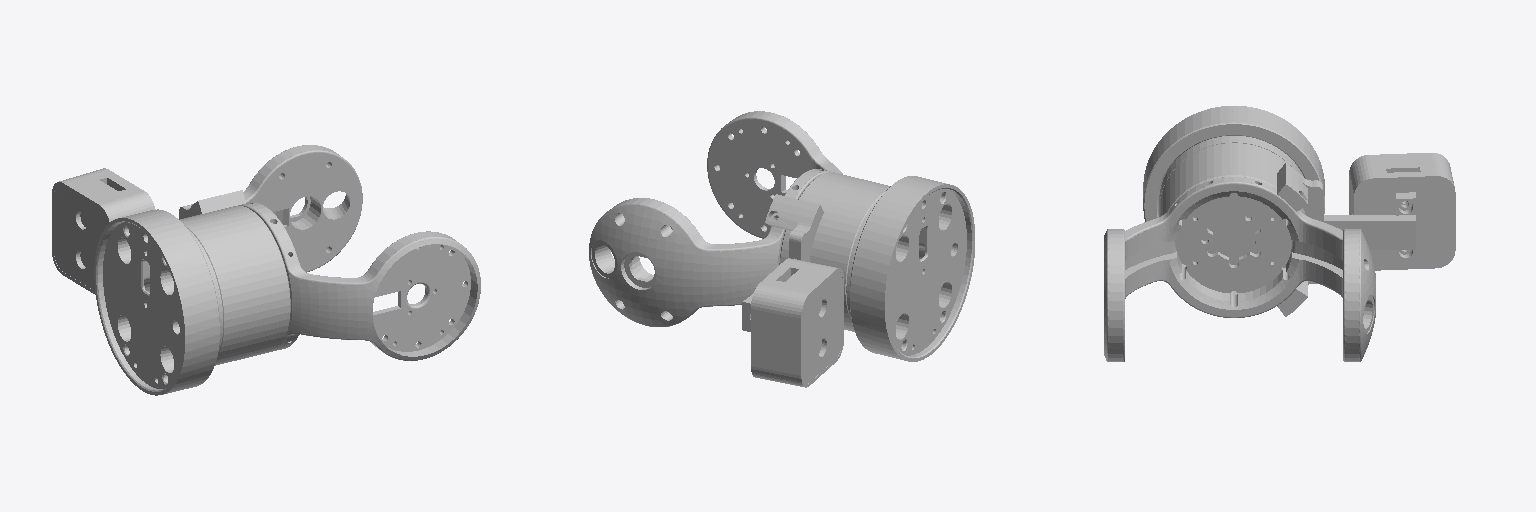
The model's file is left_arm_link7_w_cam_mount.obj.
3 views of the same model, side by side, from view 1: azimuth 30°, elevation 25°; view 2: azimuth 150°, elevation 25°; view 3: azimuth 270°, elevation 25° (orthographic).
Visible parts, largest first — view 1: RealSense_D405-2.002; view 2: RealSense_D405-2.002; view 3: RealSense_D405-2.002.
Boxes of the visible parts, x1=… form: RealSense_D405-2.002: x1=52, y1=145, x2=480, y2=395; RealSense_D405-2.002: x1=589, y1=111, x2=974, y2=387; RealSense_D405-2.002: x1=1104, y1=106, x2=1455, y2=361.
Size of the model in its own units: 0.1324 by 0.075 by 0.1447.